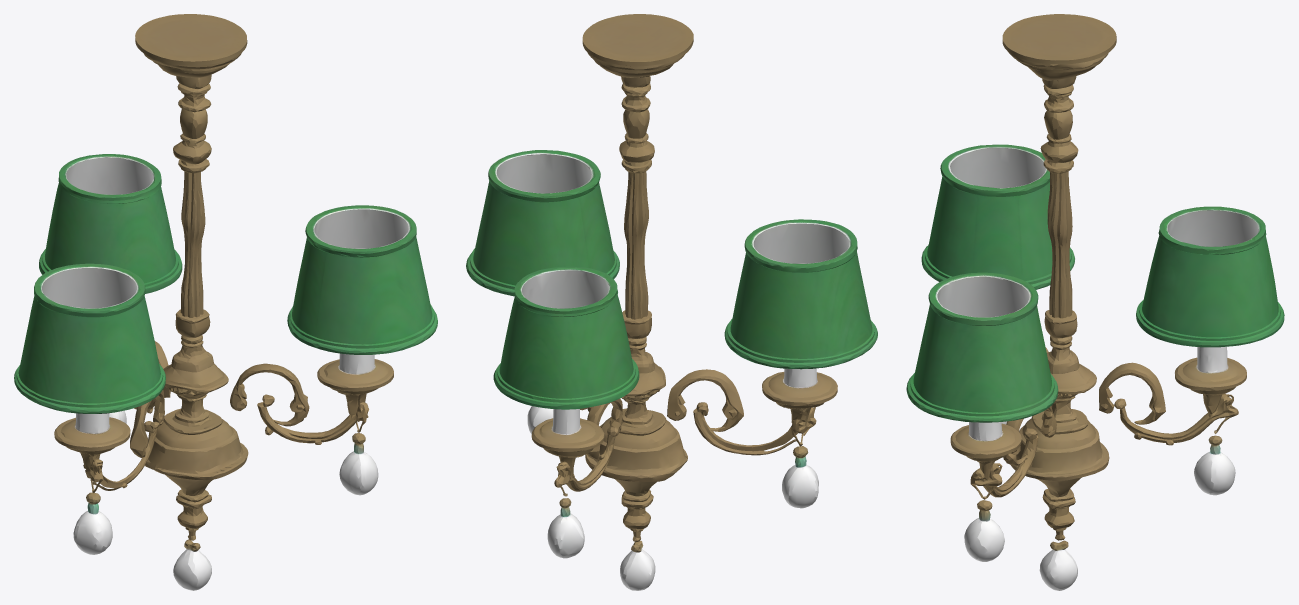
File: lamp.glb
3 views of the same model, side by side, from view 1: azimuth 30°, elevation 25°; view 2: azimuth 150°, elevation 25°; view 3: azimuth 270°, elevation 25° (orthographic).
Parts seen in each view (by area): view 1: model; view 2: model; view 3: model.
Boxes of the visible parts, left/top/right/bottom form: model: left=14, top=14, right=437, bottom=590; model: left=466, top=14, right=877, bottom=590; model: left=906, top=14, right=1284, bottom=590.
Bounding box in the file's own units: 1.43 × 1.9 × 1.18.
Materials: 1 (1 with a texture image).
